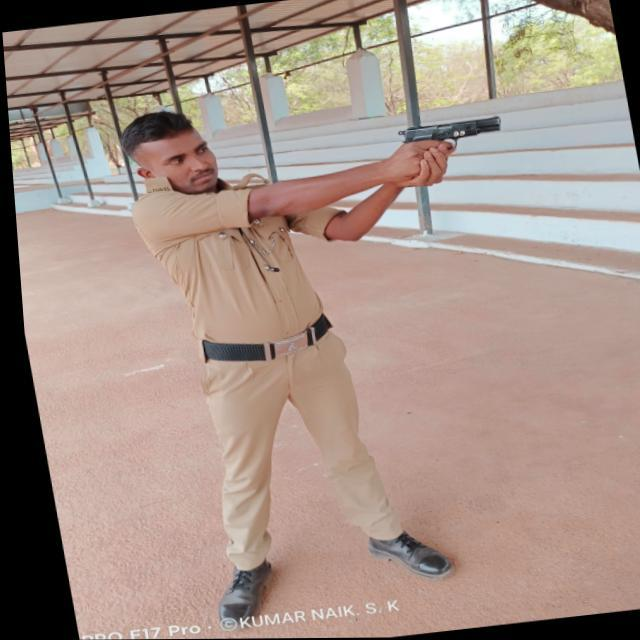weapon: (389, 112, 510, 181)
